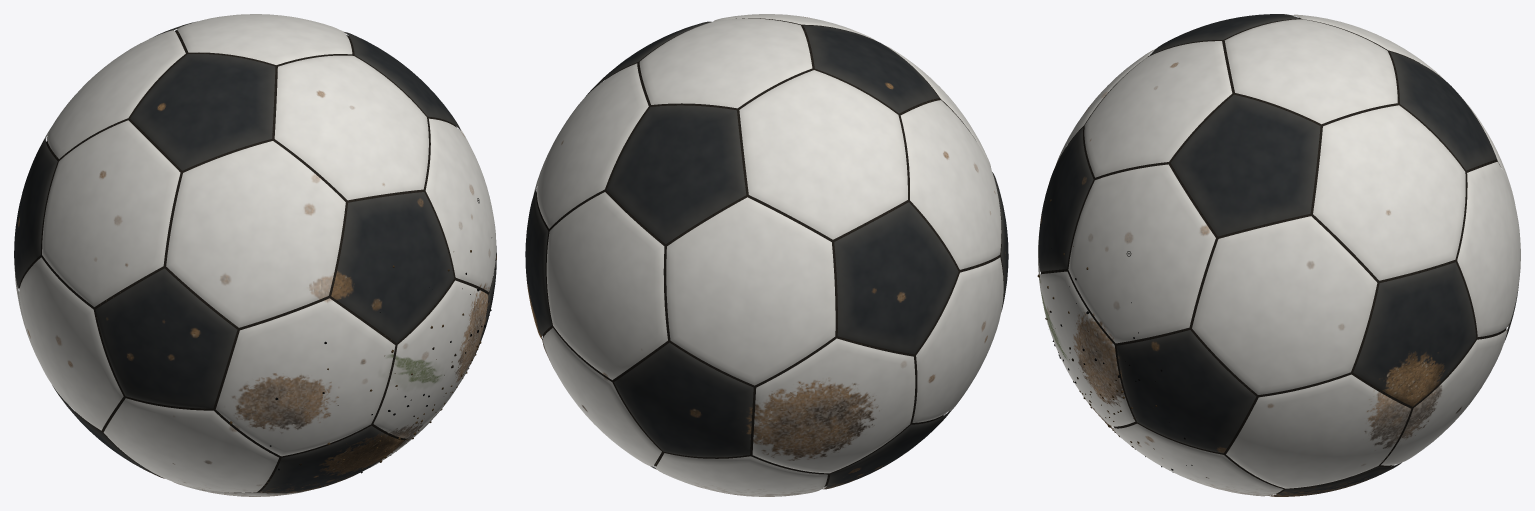
File: soccer-ball-v2.glb
3 views of the same model, side by side, from view 1: azimuth 30°, elevation 25°; view 2: azimuth 150°, elevation 25°; view 3: azimuth 270°, elevation 25° (orthographic).
Parts seen in each view (by area): view 1: SoccerBall_22cm_v2; view 2: SoccerBall_22cm_v2; view 3: SoccerBall_22cm_v2.
Part boxes in pixels (left/top/right/bottom): SoccerBall_22cm_v2: left=14, top=14, right=496, bottom=496; SoccerBall_22cm_v2: left=525, top=14, right=1008, bottom=496; SoccerBall_22cm_v2: left=1037, top=14, right=1520, bottom=496.
Bounding box in the file's own units: 0.22 × 0.2201 × 0.2204.
Materials: 1 (1 with a texture image).
